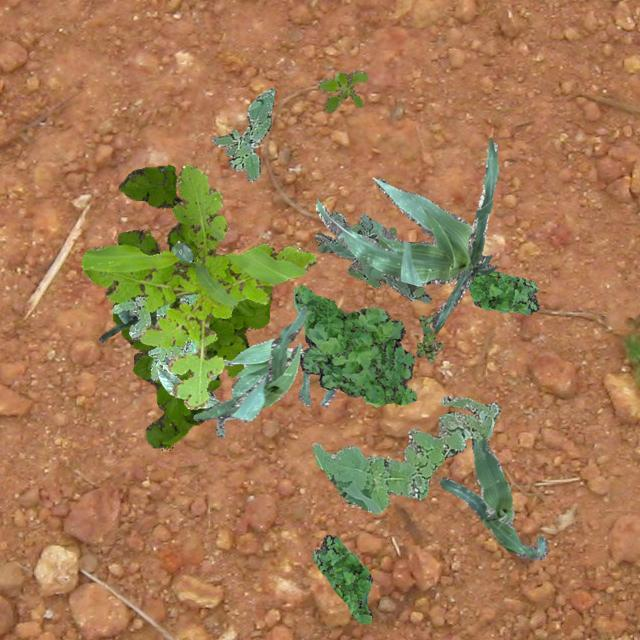crop: (314, 136, 498, 332), (192, 304, 306, 420), (438, 438, 546, 558), (210, 338, 334, 438), (156, 366, 218, 406), (98, 308, 156, 342)
weed: (80, 164, 316, 408), (112, 164, 270, 446), (312, 394, 498, 512), (292, 284, 416, 406), (314, 210, 431, 302), (111, 292, 198, 378), (210, 86, 274, 180), (312, 534, 372, 622), (466, 270, 538, 314), (316, 68, 368, 112), (414, 312, 444, 362), (170, 240, 192, 304)
